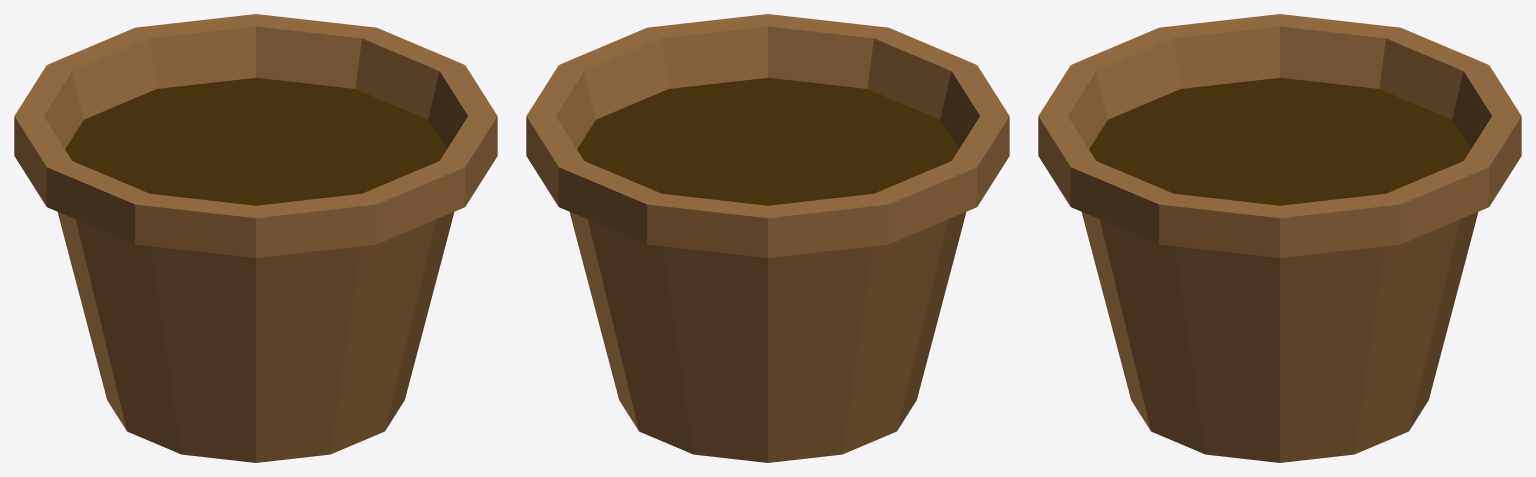
File: FlowerPot.fbx
3 views of the same model, side by side, from view 1: azimuth 30°, elevation 25°; view 2: azimuth 150°, elevation 25°; view 3: azimuth 270°, elevation 25° (orthographic).
Parts seen in each view (by area): view 1: Cylinder, Circle; view 2: Cylinder, Circle; view 3: Cylinder, Circle.
Part boxes in pixels (x1=…): Cylinder: x1=14, y1=14, x2=497, y2=462; Circle: x1=65, y1=77, x2=446, y2=205; Cylinder: x1=526, y1=14, x2=1009, y2=462; Circle: x1=577, y1=77, x2=958, y2=205; Cylinder: x1=1038, y1=14, x2=1521, y2=462; Circle: x1=1089, y1=77, x2=1470, y2=205.
Bounding box in the file's own units: 2.26 × 1.47 × 2.26.
